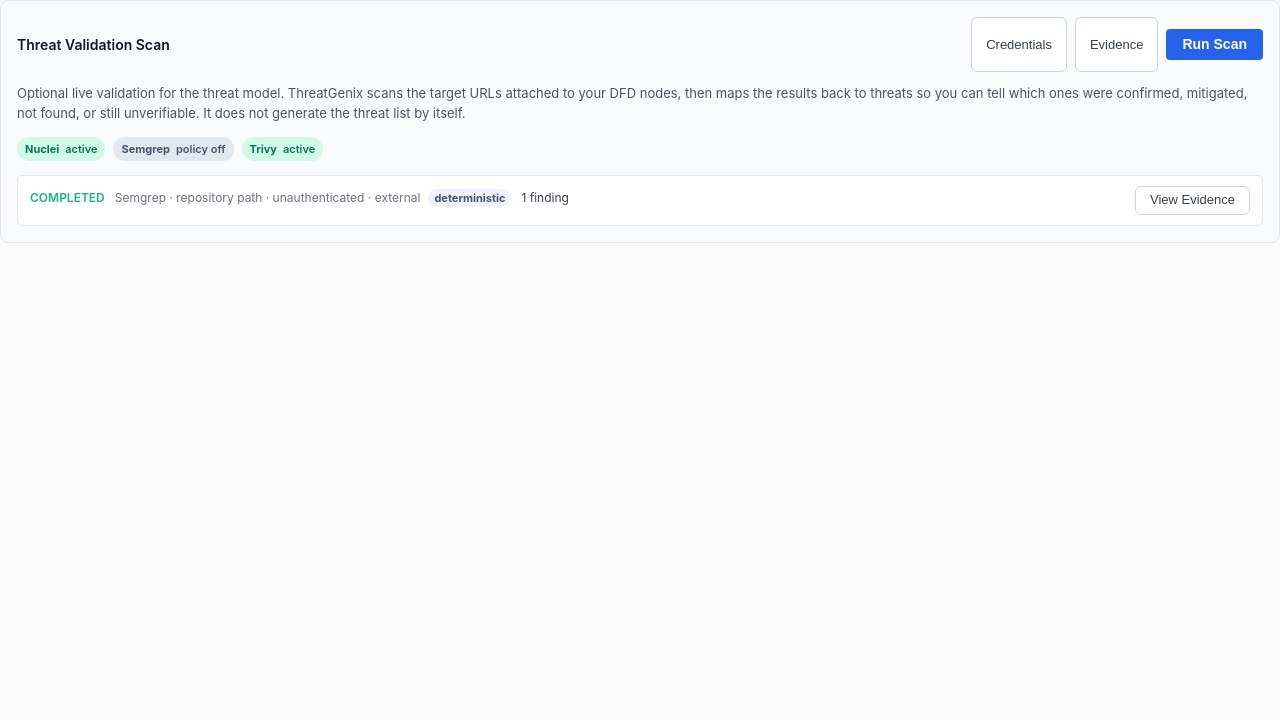
Test: ScanPanel › loads detailed scan artifacts into the evidence ledger
Click the button "View Evidence" at (1192, 201), box left=1135, top=186, right=1250, bottom=215
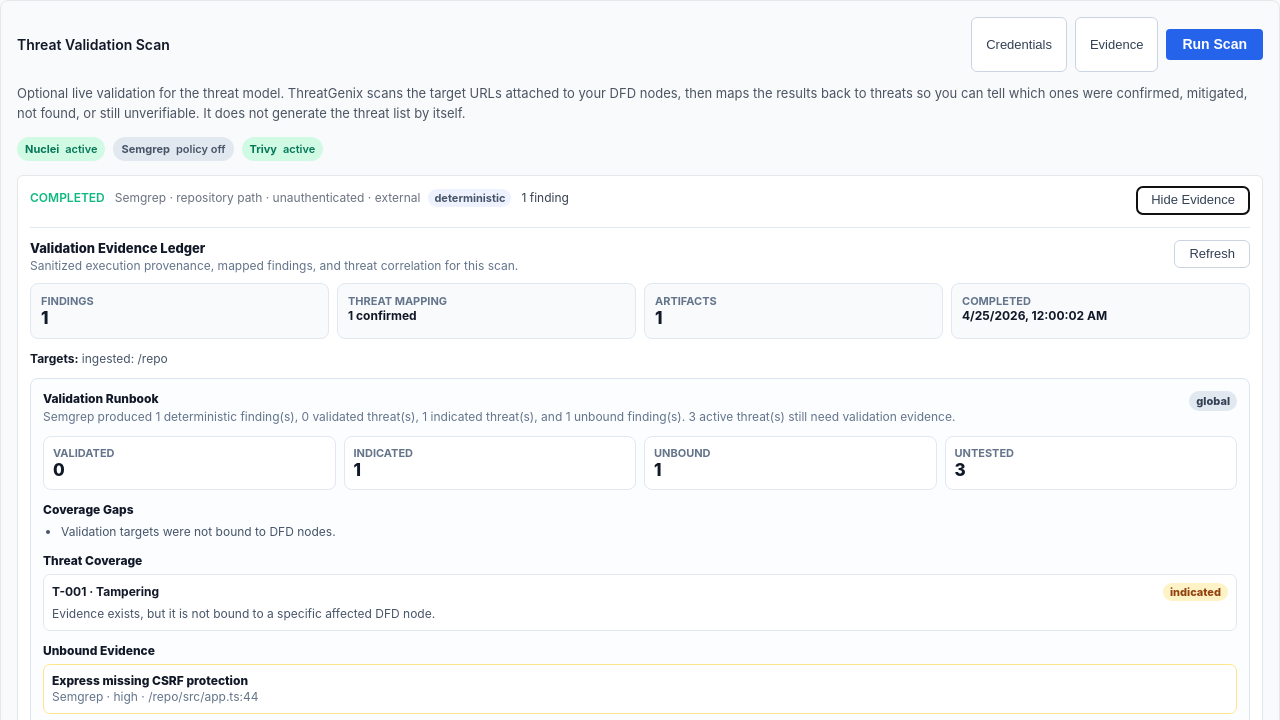
Expected: the text "Validation Evidence Ledger" is shown, left=30, top=240, right=205, bottom=256
Expected: the text "Validation Runbook" is shown, left=43, top=391, right=158, bottom=406
Expected: the text "Unbound Evidence" is shown, left=43, top=643, right=155, bottom=658
